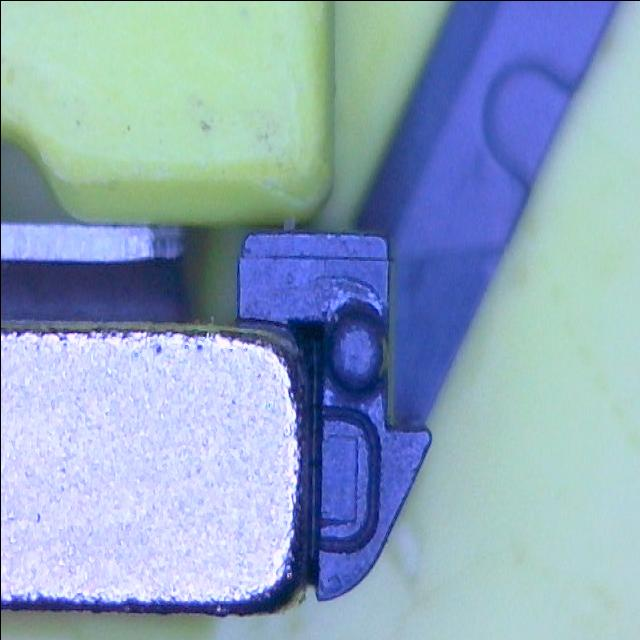lacking: (311, 404, 382, 556)
